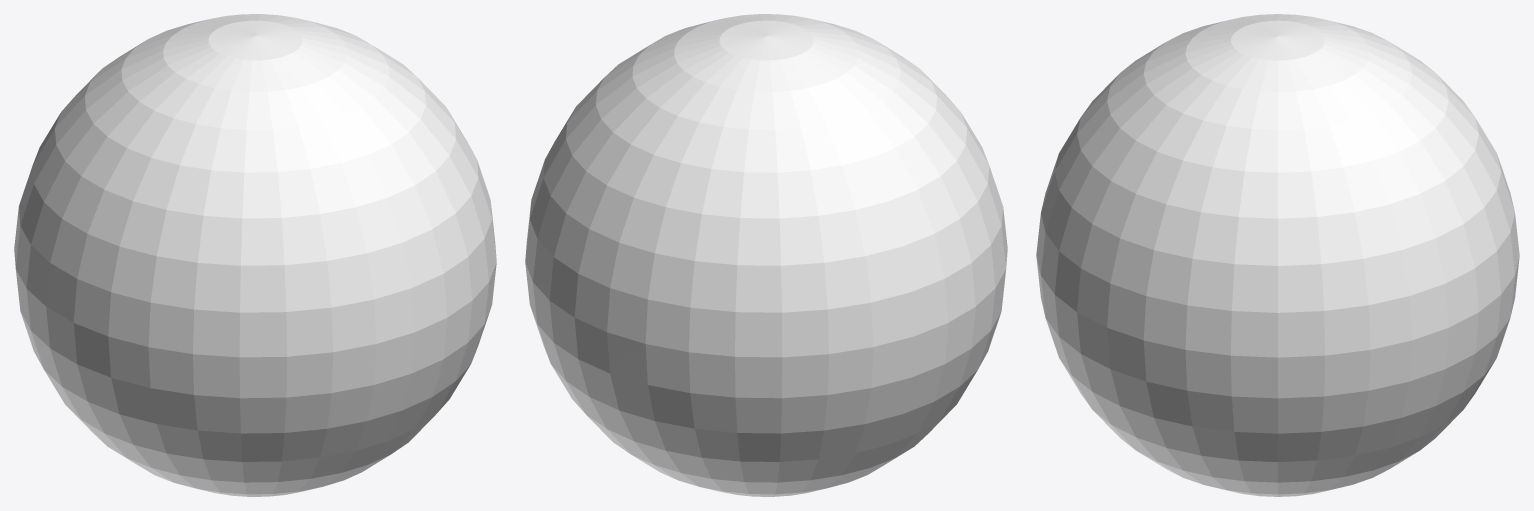
The model's file is luz.obj.
3 views of the same model, side by side, from view 1: azimuth 30°, elevation 25°; view 2: azimuth 150°, elevation 25°; view 3: azimuth 270°, elevation 25° (orthographic).
Visible parts, largest first — view 1: light_Sphere.003; view 2: light_Sphere.003; view 3: light_Sphere.003.
Part boxes in pixels (box(x1,y1,x2,y2)): light_Sphere.003: box(14, 14, 496, 496); light_Sphere.003: box(525, 14, 1007, 496); light_Sphere.003: box(1036, 14, 1519, 496).
Size of the model in its own units: 1.26 by 1.26 by 1.26.
Materials: 1 (1 with a texture image).
